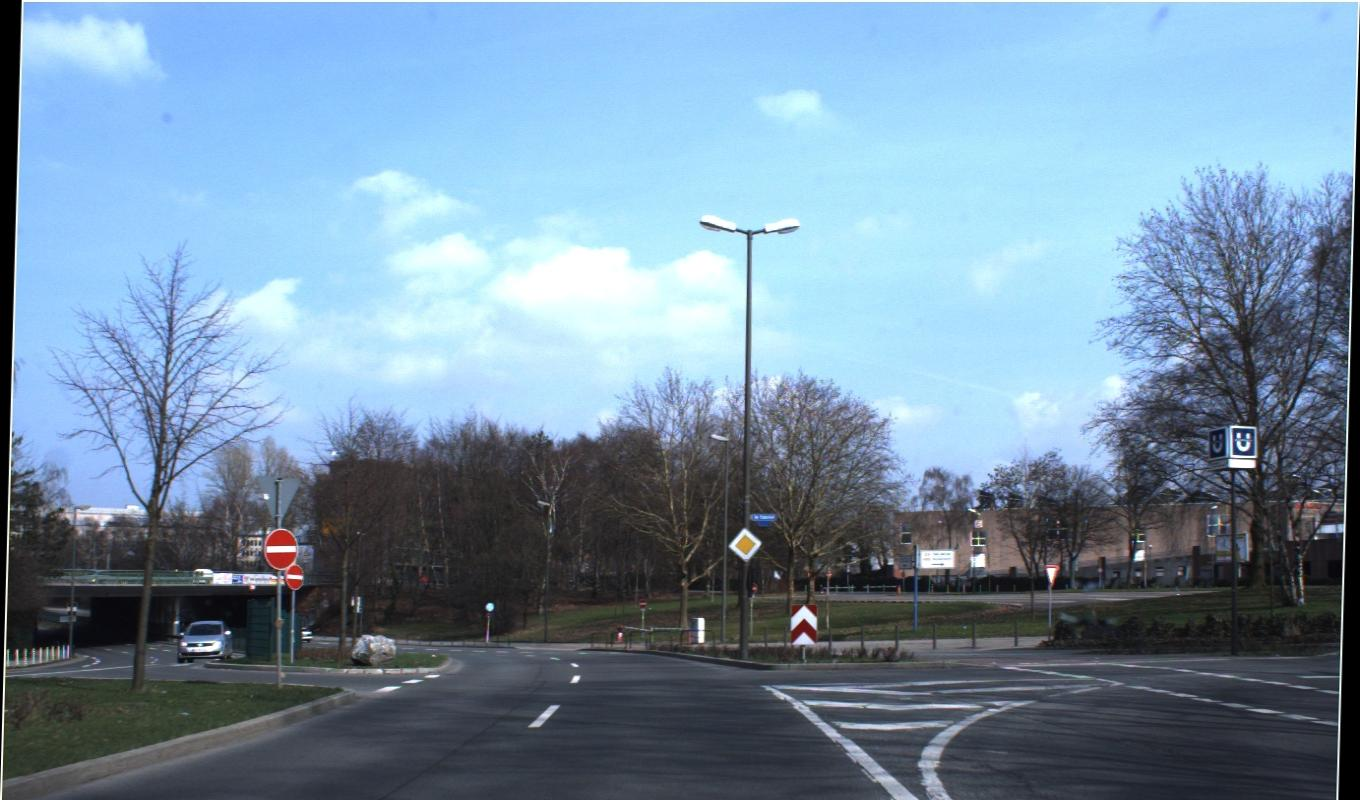priority road: (263, 526, 1061, 590)
